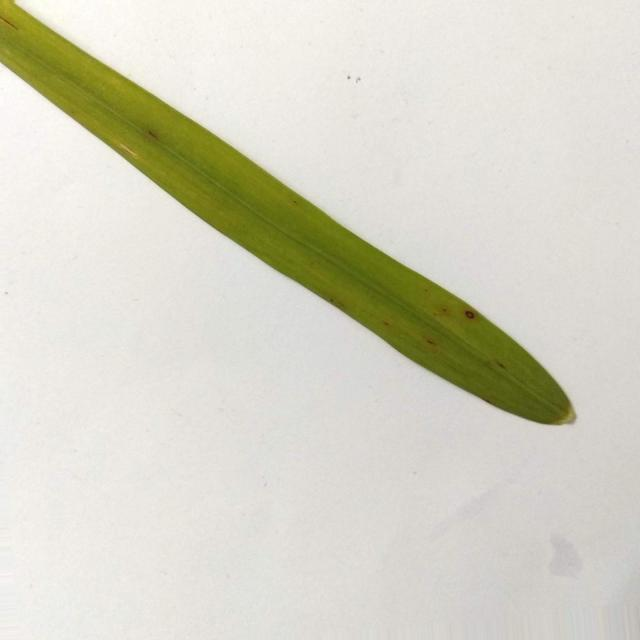Brown_Spot: (0, 16, 19, 31), (144, 129, 161, 142), (464, 309, 479, 320), (439, 302, 448, 315), (426, 339, 436, 346), (498, 362, 506, 370), (382, 320, 392, 326)
